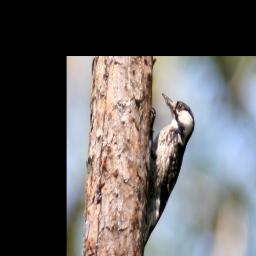Woodpecker: (144, 91, 195, 256)
